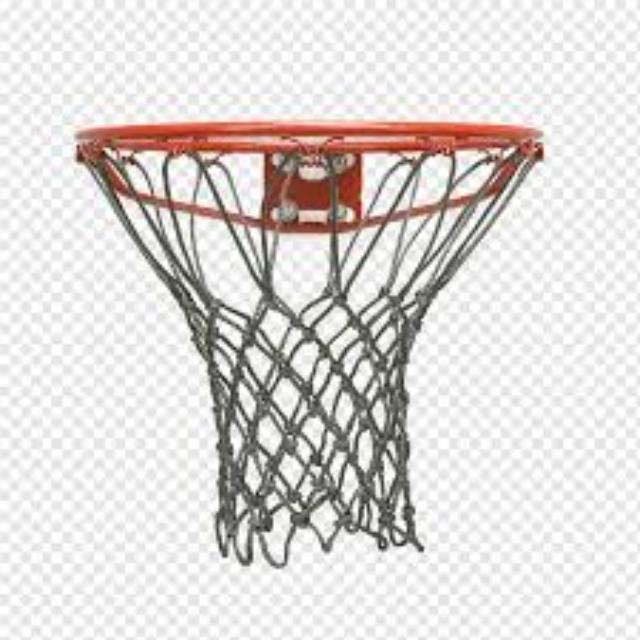rim: (78, 120, 540, 546)
